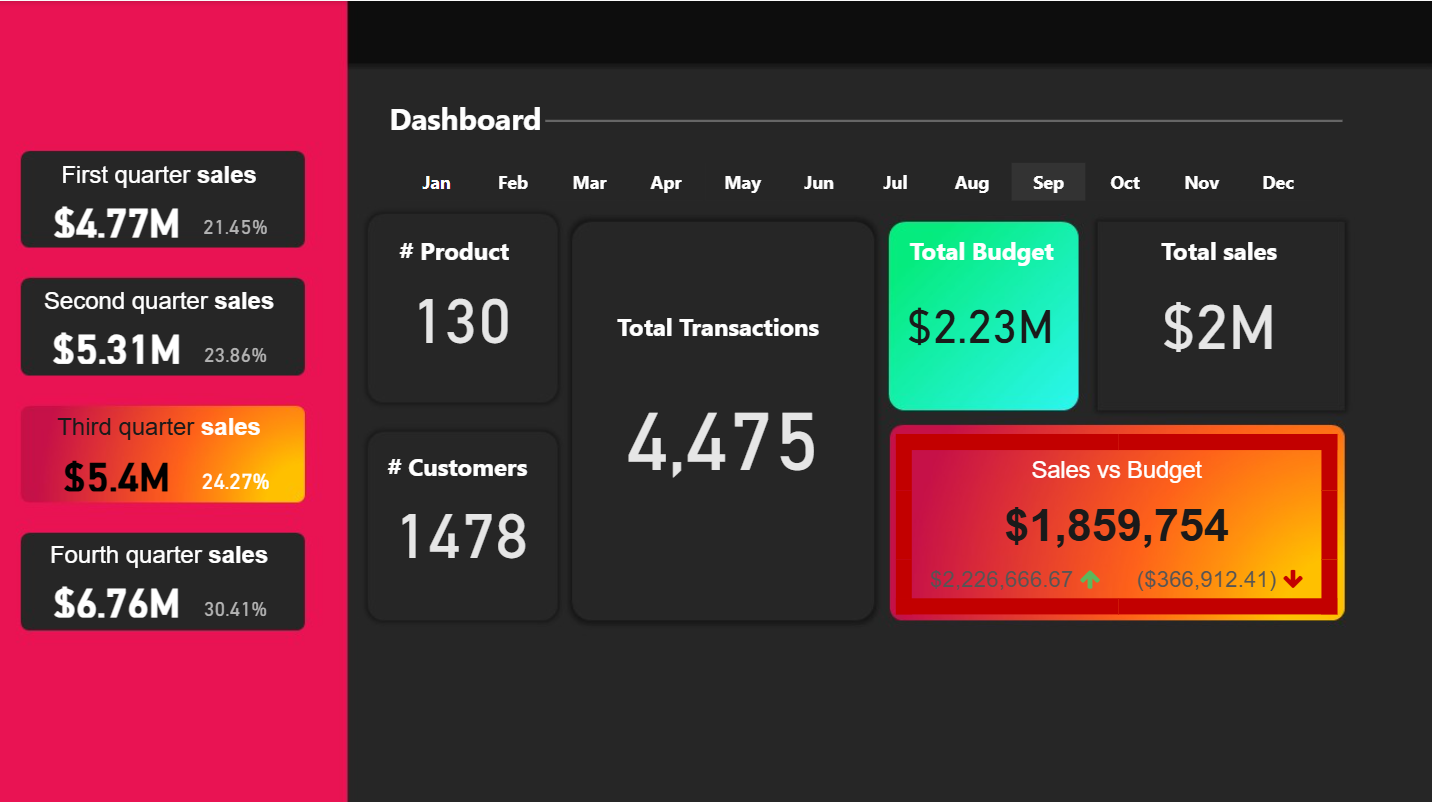

This screenshot's page, from the dashboard's own definition file:
{"tool":"powerbi","page":{"name":"Page 1","canvas":[1280,720],"ordinal":0},"visuals":[{"type":"textbox","box":[993.8,202.5,185,46.2],"z":0},{"type":"textbox","box":[782.5,202.5,185,46.2],"z":1000},{"type":"textbox","box":[525,270,230,46.2],"z":2000},{"type":"textbox","box":[312.5,202.5,185,46.2],"z":3000},{"type":"textbox","box":[312.5,395,185,47.5],"z":4000},{"type":"textbox","box":[322.5,81.2,185,46.2],"z":6000},{"type":"shape","box":[486.2,92.5,710,28.8],"z":7000},{"type":"textbox","box":[30,137.5,225,36.2],"z":8000},{"type":"textbox","box":[30,250.4,225,36.2],"z":9000},{"type":"textbox","box":[30,363.3,225,36.2],"z":10000},{"type":"textbox","box":[30,476.3,225,36.2],"z":11000},{"type":"card","fields":{"Values":["All Measures.Total sales"]},"box":[1006.2,242.5,160,81.2],"z":12000},{"type":"card","fields":{"Values":["All Measures.Total Budget"]},"box":[775,245,198.8,81.2],"z":13000},{"type":"card","fields":{"Values":["All Measures.Total Customers"]},"box":[331.2,433.8,160,71.2],"z":14000},{"type":"card","fields":{"Values":["All Measures.Total Product"]},"box":[331.2,242.5,160,71.2],"z":15000},{"type":"card","fields":{"Values":["All Measures.Total Transactions"]},"box":[530,293.8,230,176.2],"z":16000},{"type":"card","fields":{"Values":["All Measures.Q1 Sales"]},"box":[32.5,174.4,145.6,41.1],"z":17000},{"type":"card","fields":{"Values":["All Measures.% Q1"]},"box":[156.7,181.1,107.8,41.1],"z":18000},{"type":"card","fields":{"Values":["All Measures.Q4 Sales"]},"box":[32.5,513.3,145.6,41.1],"z":19000},{"type":"card","fields":{"Values":["All Measures.Q3 Sales"]},"box":[32.5,400.4,145.6,41.1],"z":20000},{"type":"card","fields":{"Values":["All Measures.Q2 Sales"]},"box":[32.5,287.4,145.6,41.1],"z":21000},{"type":"card","fields":{"Values":["All Measures.% Q4"]},"box":[156.7,521.1,107.8,41.1],"z":22000},{"type":"card","fields":{"Values":["All Measures.% Q3"]},"box":[156.7,407.8,107.8,41.1],"z":23000},{"type":"card","fields":{"Values":["All Measures.% Q2"]},"box":[156.7,294.4,107.8,41.1],"z":24000},{"type":"BBED0A4D4D8D44CE93CF2DAFADEE466C","fields":{"actual":["All Measures.Total sales"],"target1":["All Measures.Total Budget"],"target2":["All Measures.TotalSales/Budget"]},"box":[793.3,381.1,403.3,171],"z":25000},{"type":"slicer","fields":{"Values":["Calendar Table.Month"]},"box":[331.1,136.7,865.6,47.8],"z":26000}]}

Visuals, with their boxes in screenshot pixels (x1, y1, x2, y2), scaled from the page's 1280x720 canvas onto the 1432x802 screenshot:
textbox: locate(1112, 226, 1319, 277)
textbox: locate(875, 226, 1082, 277)
textbox: locate(587, 301, 845, 352)
textbox: locate(350, 226, 557, 277)
textbox: locate(350, 440, 557, 493)
textbox: locate(361, 90, 568, 142)
shape: locate(544, 103, 1338, 135)
textbox: locate(34, 153, 285, 193)
textbox: locate(34, 279, 285, 319)
textbox: locate(34, 405, 285, 445)
textbox: locate(34, 531, 285, 571)
card - All Measures.Total sales: locate(1126, 270, 1305, 361)
card - All Measures.Total Budget: locate(867, 273, 1089, 363)
card - All Measures.Total Customers: locate(371, 483, 550, 563)
card - All Measures.Total Product: locate(371, 270, 550, 349)
card - All Measures.Total Transactions: locate(593, 327, 850, 524)
card - All Measures.Q1 Sales: locate(36, 194, 199, 240)
card - All Measures.% Q1: locate(175, 202, 296, 248)
card - All Measures.Q4 Sales: locate(36, 572, 199, 618)
card - All Measures.Q3 Sales: locate(36, 446, 199, 492)
card - All Measures.Q2 Sales: locate(36, 320, 199, 366)
card - All Measures.% Q4: locate(175, 580, 296, 626)
card - All Measures.% Q3: locate(175, 454, 296, 500)
card - All Measures.% Q2: locate(175, 328, 296, 374)
BBED0A4D4D8D44CE93CF2DAFADEE466C - All Measures.Total sales x All Measures.Total Budget: locate(888, 425, 1339, 615)
slicer - Calendar Table.Month: locate(370, 152, 1339, 206)
